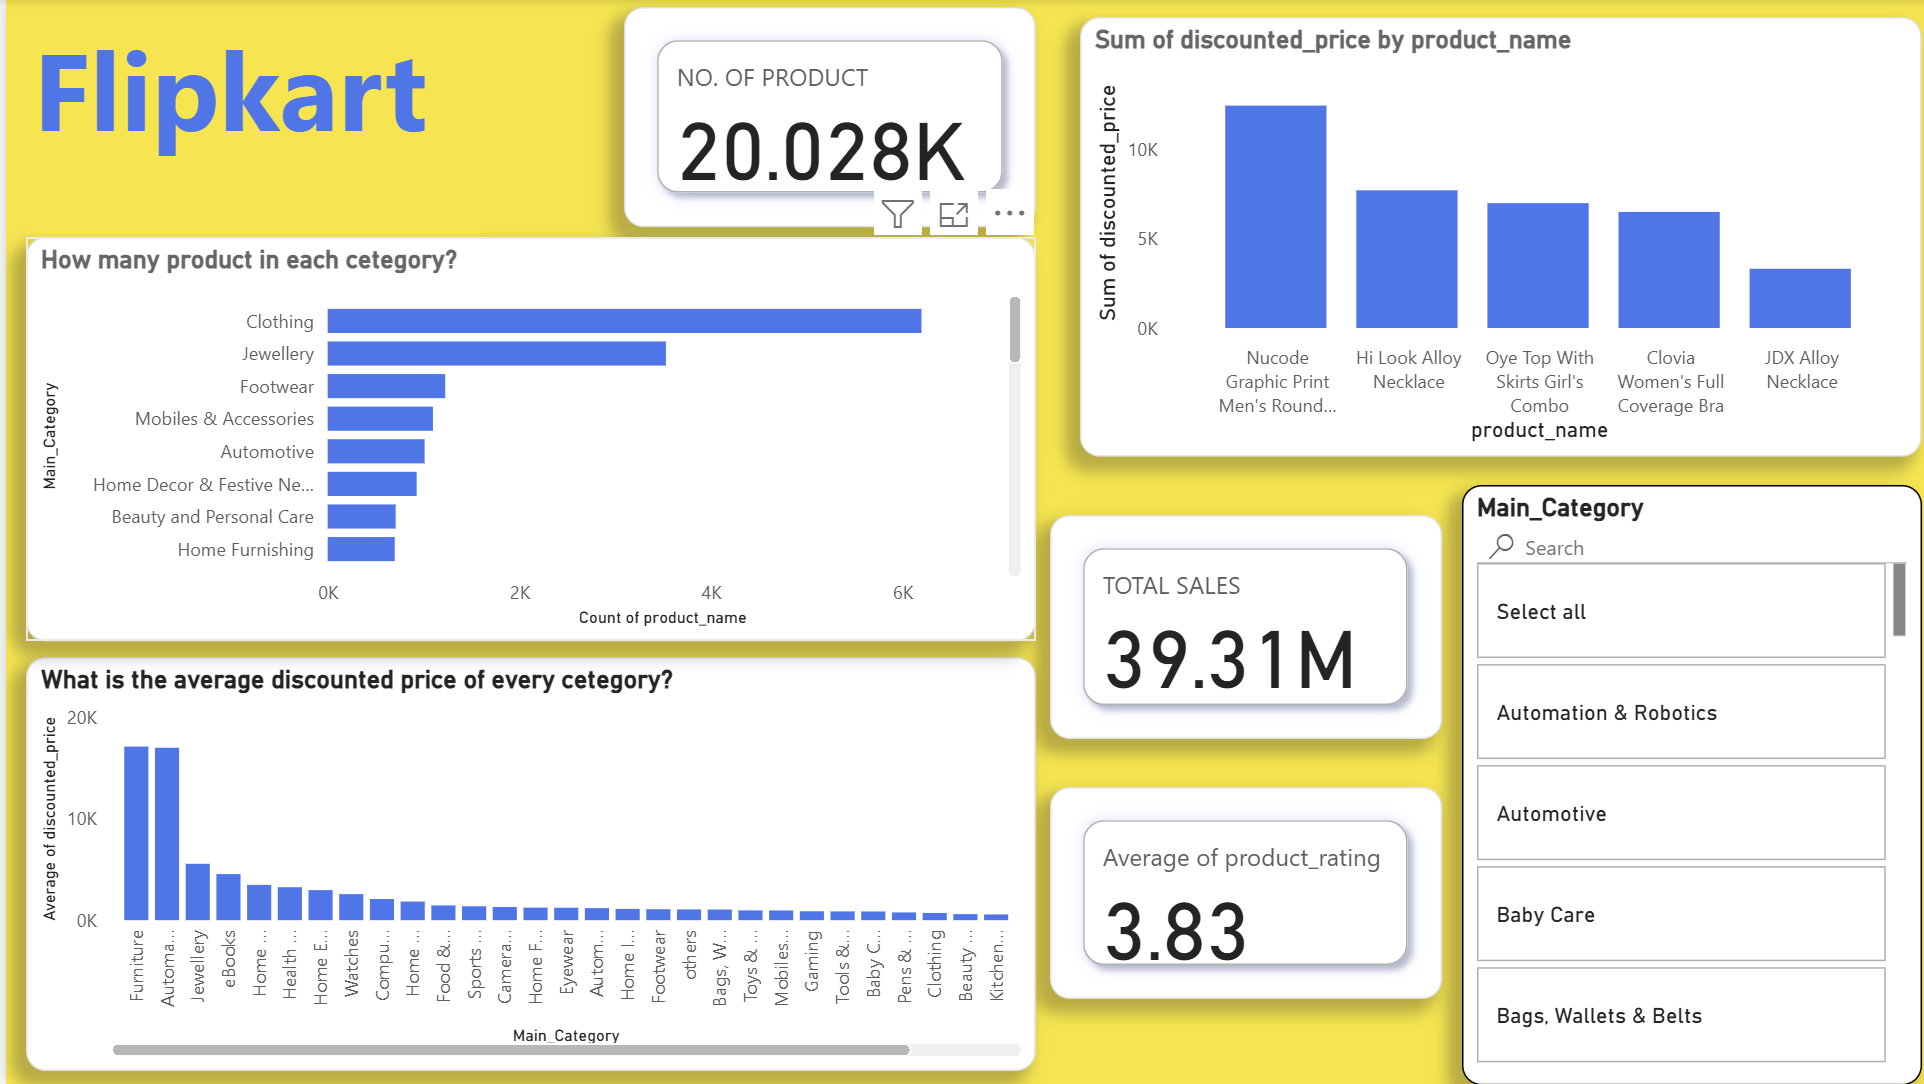

Layout of this report page (visuals, bound fields, positions):
{"tool":"powerbi","page":{"name":"Page 1","canvas":[1280,720],"ordinal":0},"visuals":[{"type":"advancedSlicerVisual","fields":{"Values":["flipkart_com-ecommerce_sample.Main_Category"]},"box":[965.3,322.2,305,397.8],"z":0},{"type":"clusteredColumnChart","fields":{"Y":["Sum(flipkart_com-ecommerce_sample.discounted_price)"],"Category":["flipkart_com-ecommerce_sample.product_name"]},"box":[712,11.9,558.2,291.7],"z":1000},{"type":"cardVisual","fields":{"Data":["Sum(flipkart_com-ecommerce_sample.discounted_price)"]},"box":[692.2,342.1,259.9,148.5],"z":2000},{"type":"cardVisual","fields":{"Data":["CountNonNull(flipkart_com-ecommerce_sample.product_name)"]},"box":[409.7,5.3,273.1,145.9],"z":3000},{"type":"cardVisual","fields":{"Data":["Avg(flipkart_com-ecommerce_sample.product_rating)"]},"box":[692.2,522.4,259.9,140.6],"z":4000},{"type":"clusteredColumnChart","title":"What is the average discounted price of every cetegory?","fields":{"Y":["Avg(flipkart_com-ecommerce_sample.discounted_price)"],"Category":["flipkart_com-ecommerce_sample.Main_Category"]},"box":[13.3,436.2,669.6,274.5],"z":5000},{"type":"barChart","title":"How many product in each cetegory?","fields":{"Y":["CountNonNull(flipkart_com-ecommerce_sample.product_name)"],"Category":["flipkart_com-ecommerce_sample.Main_Category"]},"box":[13.3,157.8,669.6,267.8],"z":6000},{"type":"textbox","box":[13.3,5.3,303.6,149.8],"z":7000}]}

Visuals, with their boxes in screenshot pixels (x1, y1, x2, y2), scaled from the page's 1280x720 canvas onto the 1924x1084 screenshot:
advancedSlicerVisual - flipkart_com-ecommerce_sample.Main_Category: rect(1451, 485, 1909, 1083)
clusteredColumnChart - Sum(flipkart_com-ecommerce_sample.discounted_price) x flipkart_com-ecommerce_sample.product_name: rect(1070, 18, 1909, 457)
cardVisual - Sum(flipkart_com-ecommerce_sample.discounted_price): rect(1040, 515, 1431, 739)
cardVisual - CountNonNull(flipkart_com-ecommerce_sample.product_name): rect(616, 8, 1026, 228)
cardVisual - Avg(flipkart_com-ecommerce_sample.product_rating): rect(1040, 787, 1431, 998)
"What is the average discounted price of every cetegory?" clusteredColumnChart: rect(20, 657, 1026, 1070)
"How many product in each cetegory?" barChart: rect(20, 238, 1026, 641)
textbox: rect(20, 8, 476, 234)
